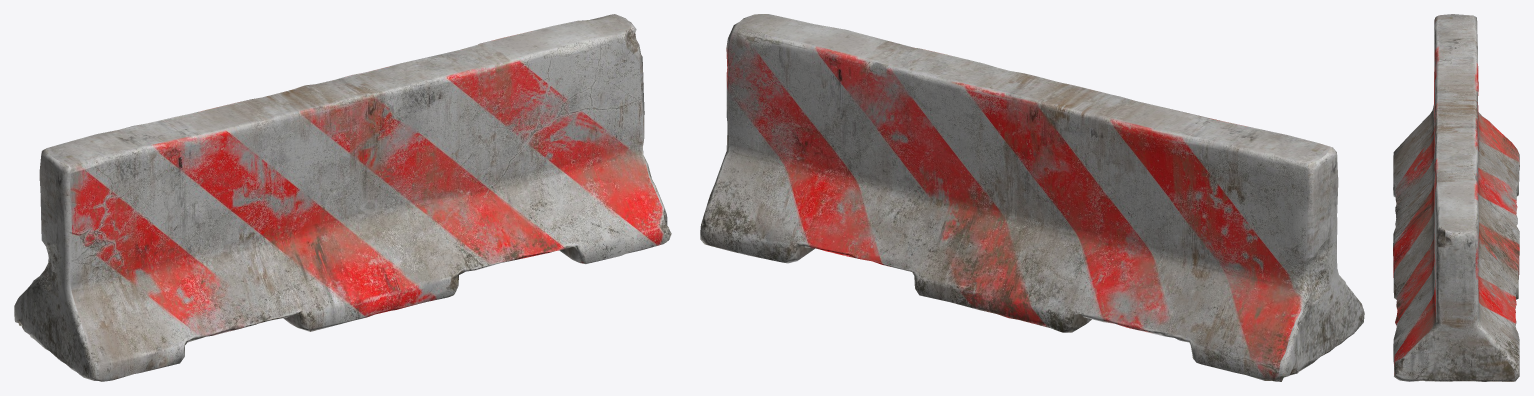
File: SM_Stripe_Barrier.glb
3 views of the same model, side by side, from view 1: azimuth 30°, elevation 25°; view 2: azimuth 150°, elevation 25°; view 3: azimuth 270°, elevation 25° (orthographic). The views are drawn at different scales.
Parts seen in each view (by area): view 1: SM_Stripe_Barrier; view 2: SM_Stripe_Barrier; view 3: SM_Stripe_Barrier.
Boxes of the visible parts, x1=… form: SM_Stripe_Barrier: x1=14, y1=14, x2=671, y2=381; SM_Stripe_Barrier: x1=700, y1=14, x2=1364, y2=381; SM_Stripe_Barrier: x1=1393, y1=14, x2=1519, y2=381.
Bounding box in the file's own units: 2.51 × 0.825 × 0.6166.
1 material, 1 textured.
